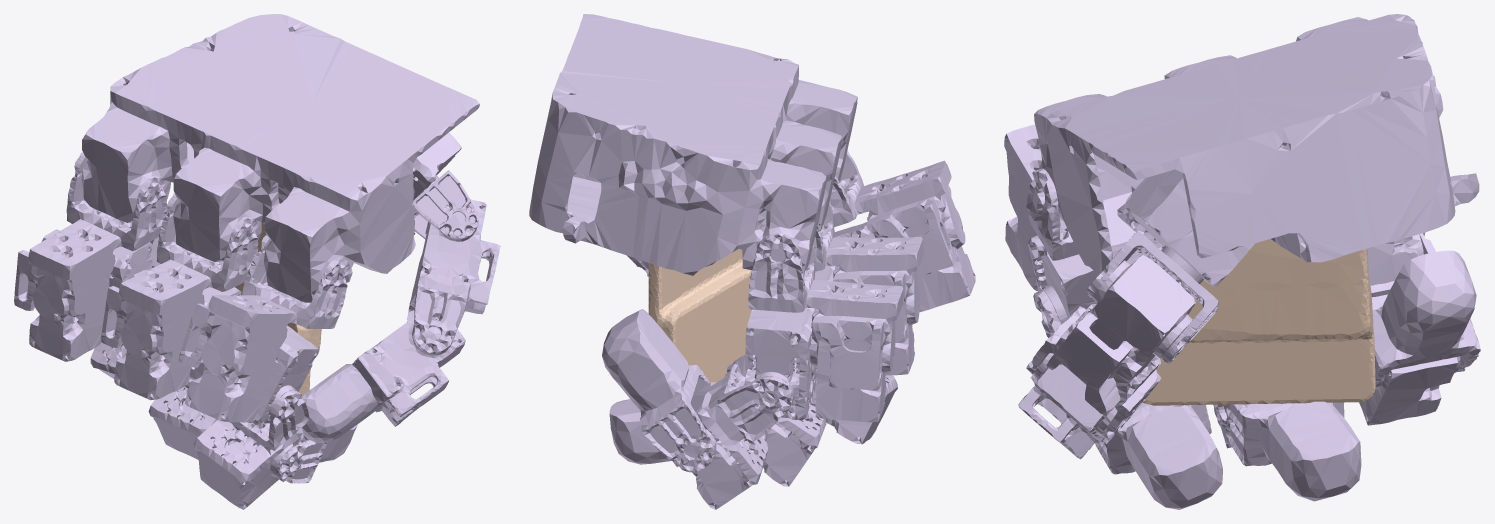
Rendered from 3b25fac5031142-final.glb.
3 renders of one model, left to right at view 1: azimuth 30°, elevation 25°; view 2: azimuth 150°, elevation 25°; view 3: azimuth 270°, elevation 25°, orthographic. The views are drawn at different scales.
Visible parts, largest first — view 1: LEAP_hand, world; view 2: LEAP_hand, world; view 3: LEAP_hand, world.
Boxes of the visible parts, x1=… form: LEAP_hand: x1=14, y1=14, x2=500, y2=509; world: x1=235, y1=222, x2=321, y2=396; LEAP_hand: x1=529, y1=14, x2=975, y2=509; world: x1=648, y1=249, x2=751, y2=382; LEAP_hand: x1=1004, y1=14, x2=1480, y2=509; world: x1=1143, y1=239, x2=1375, y2=405.
Size of the model in its own units: 0.1722 by 0.1563 by 0.1497.
